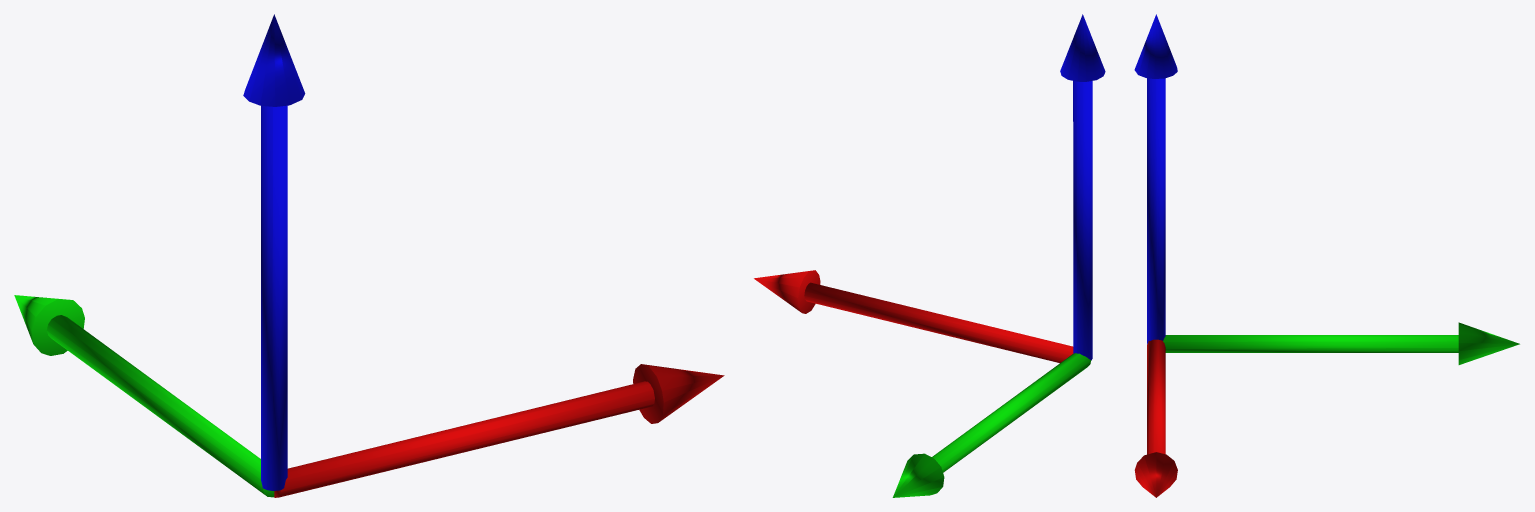
Rendered from arrow.fbx.
3 views of the same model, side by side, from view 1: azimuth 30°, elevation 25°; view 2: azimuth 150°, elevation 25°; view 3: azimuth 270°, elevation 25° (orthographic). The views are drawn at different scales.
Visible parts, largest first — view 1: Arrows; view 2: Arrows; view 3: Arrows.
Boxes of the visible parts, x1,y1,x2,y2 form: Arrows: (14,14,724,497); Arrows: (754,14,1105,497); Arrows: (1134,14,1519,497).
Size of the model in its own units: 2.5 by 2.5 by 2.5.
